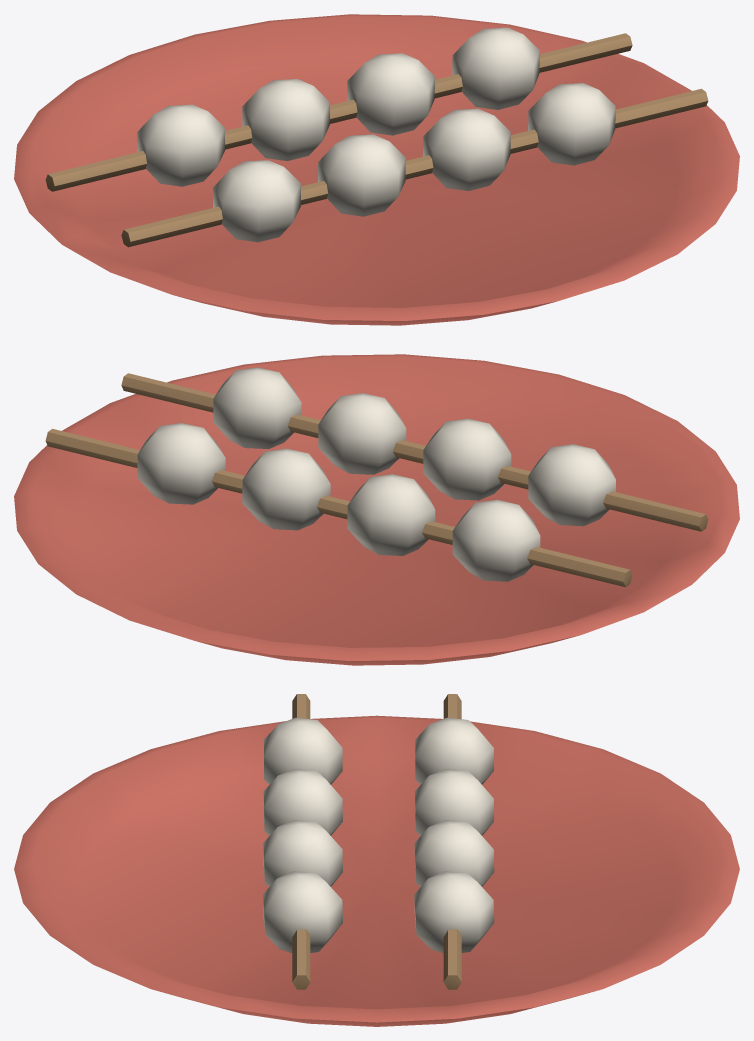
Rendered from dish_roast.glb.
3 renders of one model, top to bottom at view 1: azimuth 30°, elevation 25°; view 2: azimuth 150°, elevation 25°; view 3: azimuth 270°, elevation 25°, orthographic.
Parts seen in each view (by area): view 1: PART; view 2: PART; view 3: PART.
Boxes of the visible parts, x1=… form: PART: x1=14, y1=14, x2=739, y2=325; PART: x1=14, y1=354, x2=739, y2=665; PART: x1=14, y1=694, x2=739, y2=1026.
Size of the model in its own units: 0.24 by 0.0456 by 0.24.
